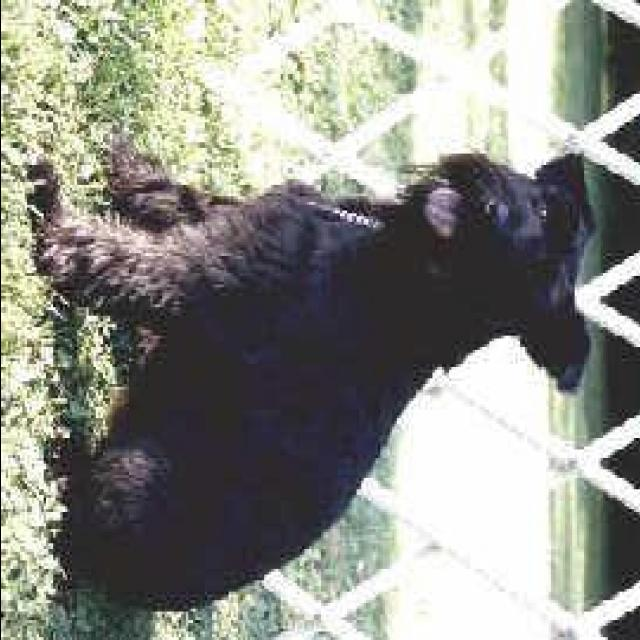standard_schnauzer: (25, 140, 598, 614)
